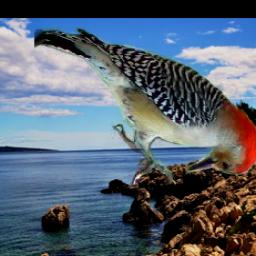Woodpecker: (34, 23, 256, 187)
